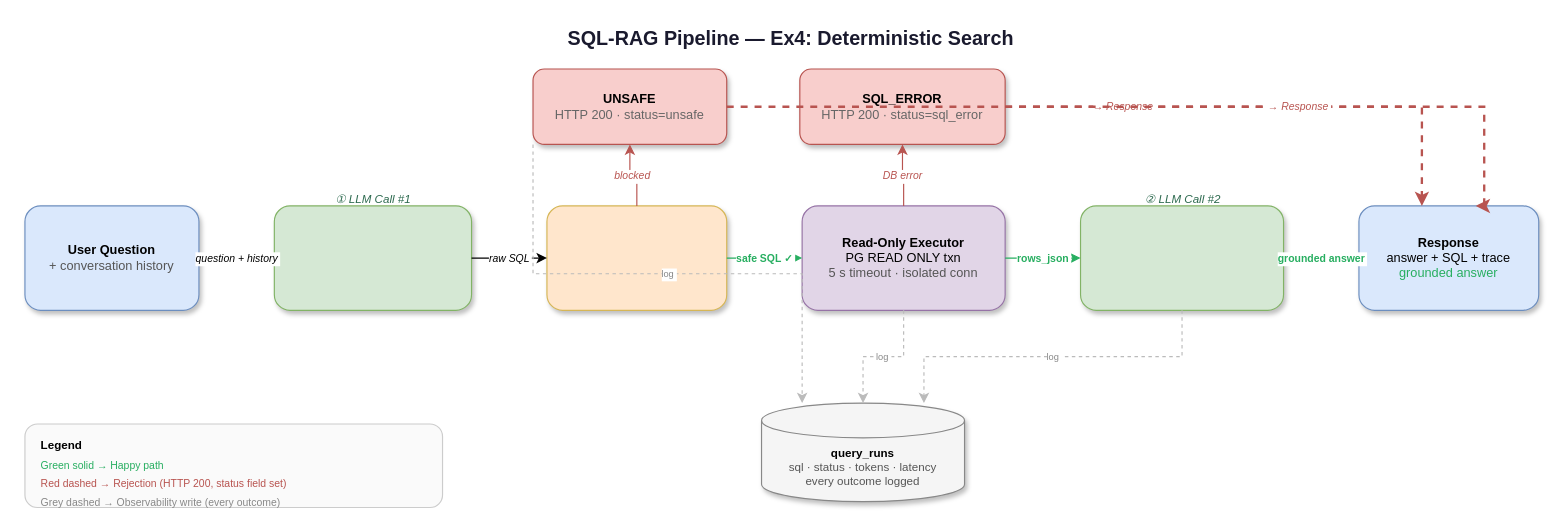
This 1566x530 diagram has some shape labels left out. Here are the shapes that lost their labels. From the top down, the centre of each, then its label:
At point 373,259: "SQL Generator Nova Lite sql-v1.txt · few-shot".
At point 637,259: "Safety Guard blocklist · SELECT-only LIMIT 100 cap".
At point 1182,259: "Answer Synthesizer Nova Lite answer-v1.txt · multi-turn".
